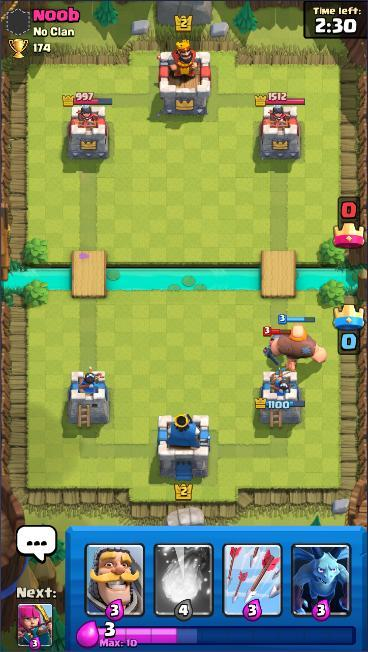ally_giant: (269, 312, 330, 372)
enemy_mini_pekka: (261, 324, 295, 368)
